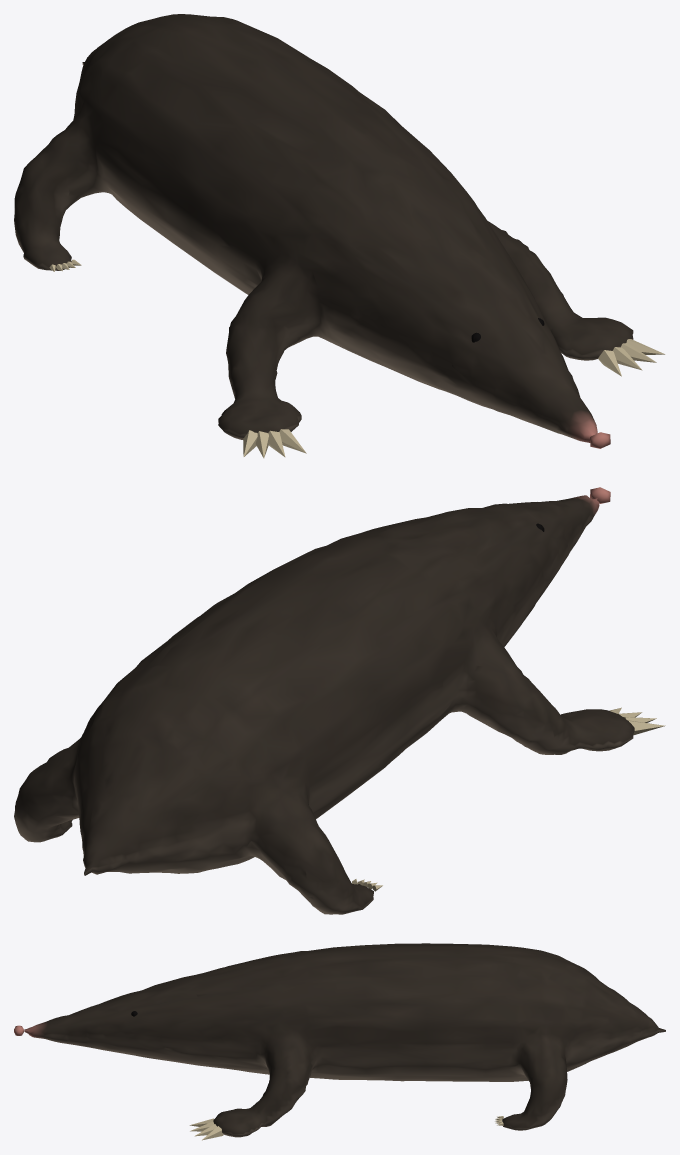
File: Docofossor.fbx
3 views of the same model, one above another, from view 1: azimuth 30°, elevation 25°; view 2: azimuth 150°, elevation 25°; view 3: azimuth 270°, elevation 25° (orthographic). The views are drawn at different scales.
Visible parts, largest first — view 1: Docofossor; view 2: Docofossor; view 3: Docofossor.
Boxes of the visible parts, box(x1,y1,x2,y2) form: Docofossor: box(14, 14, 665, 458); Docofossor: box(14, 487, 665, 914); Docofossor: box(14, 943, 665, 1140).
Bounding box in the file's own units: 0.4202 × 0.1953 × 0.8969.
